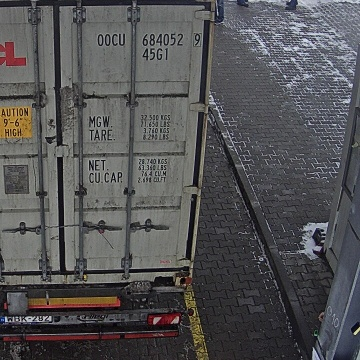serial_id: (97, 33, 200, 46)
